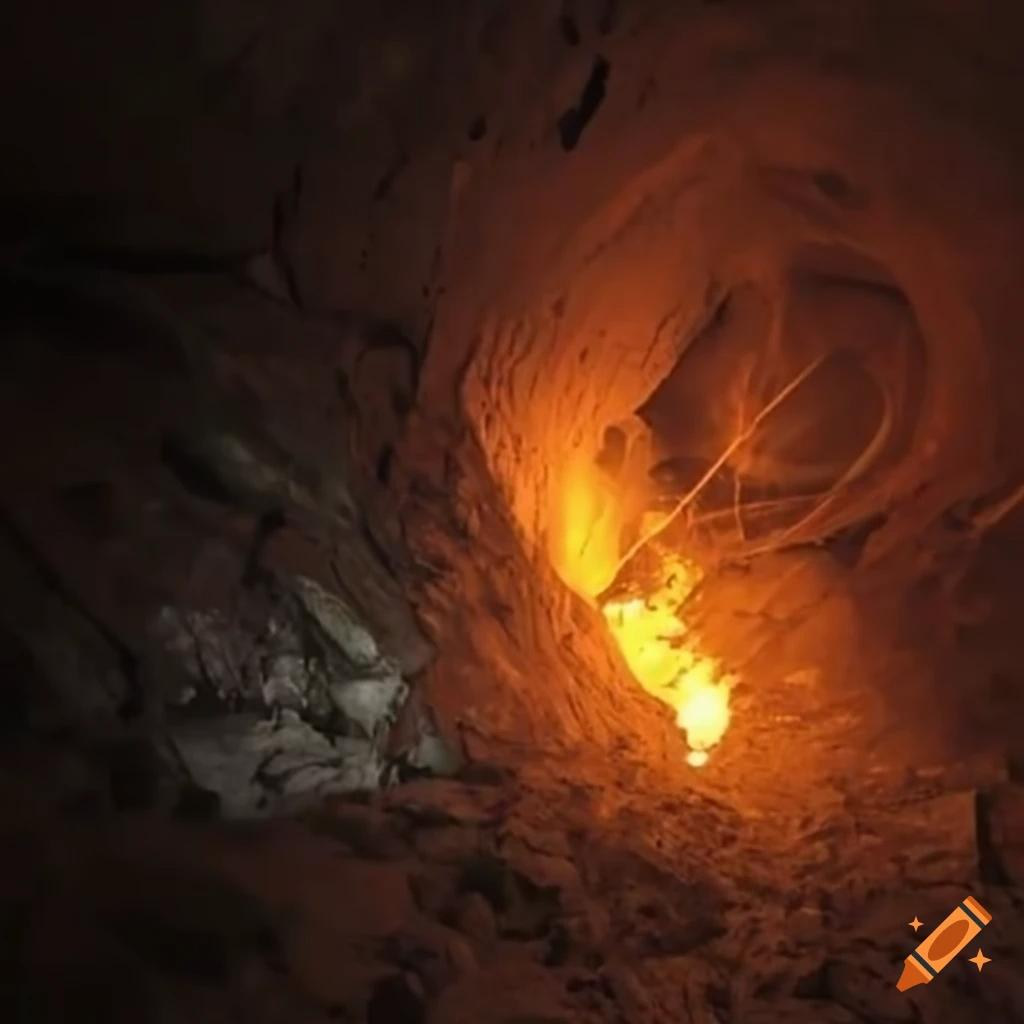fire: (499, 512, 789, 805)
